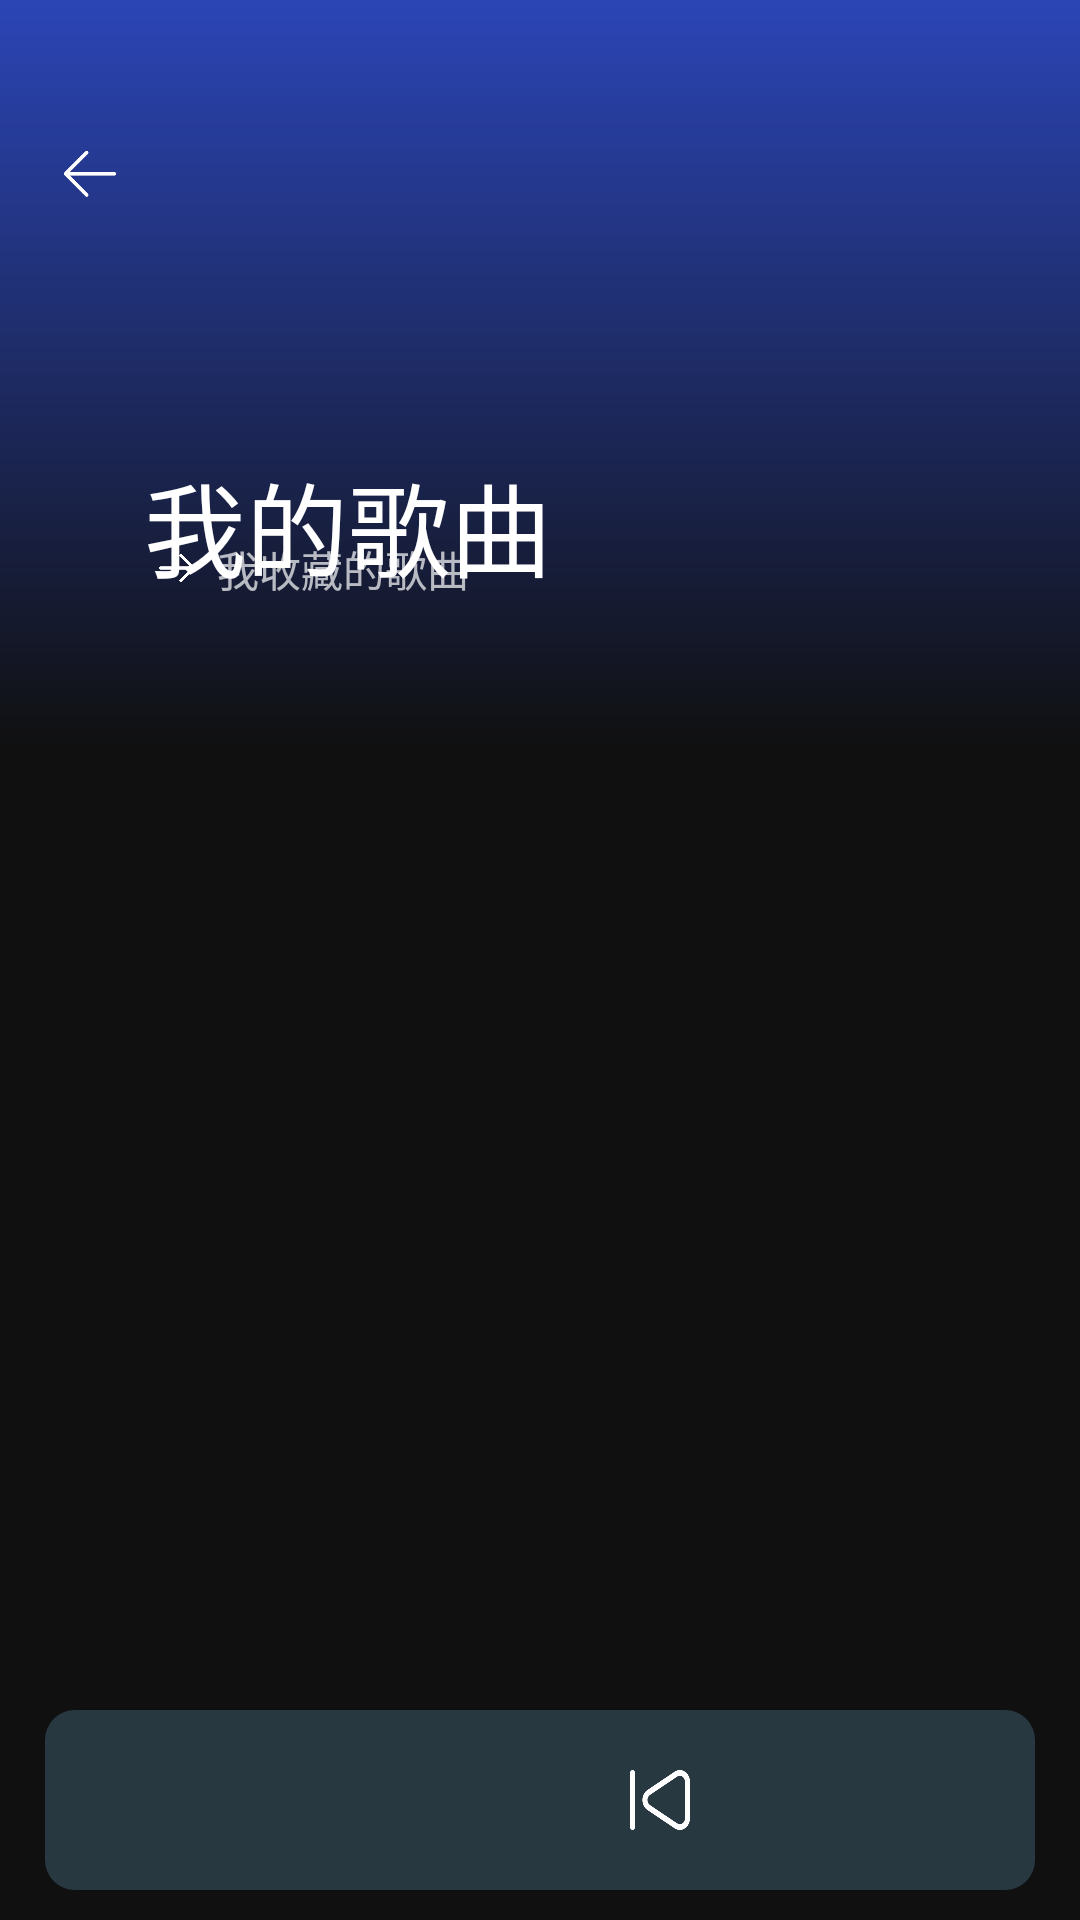

Named icons in this screenshot (1080 x 1920) and their bounding boxes, (x1, y1, x2, y2):
back: (64, 151, 116, 197)
pre: (630, 1770, 690, 1830)
